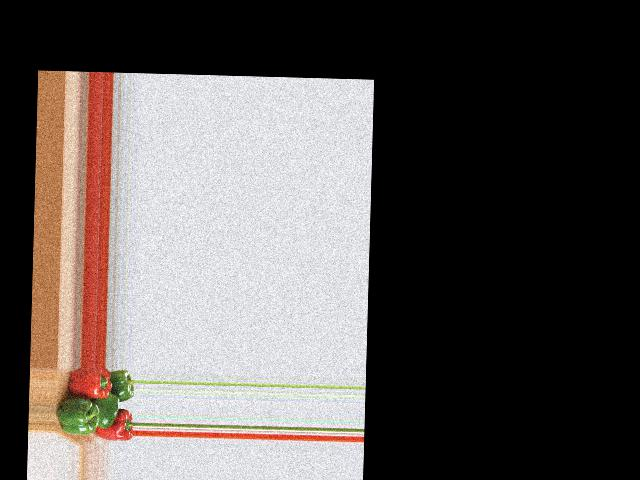bell_pepper: (64, 367, 111, 400)
